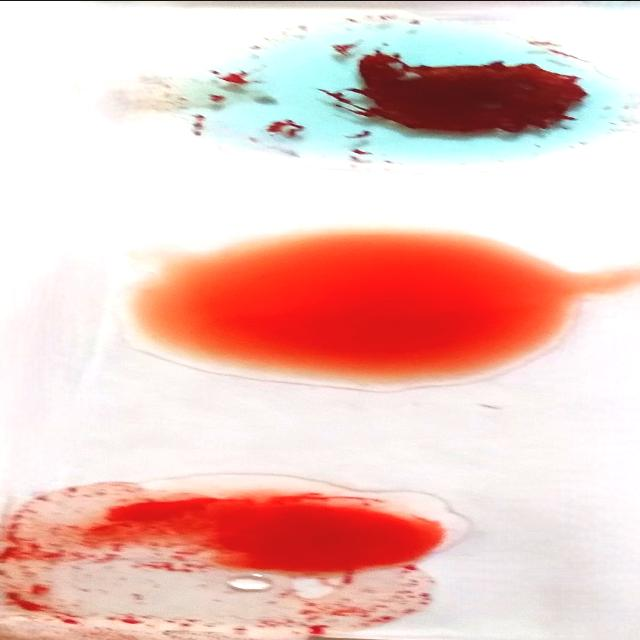A: (180, 22, 638, 164)
D: (0, 477, 467, 640)
